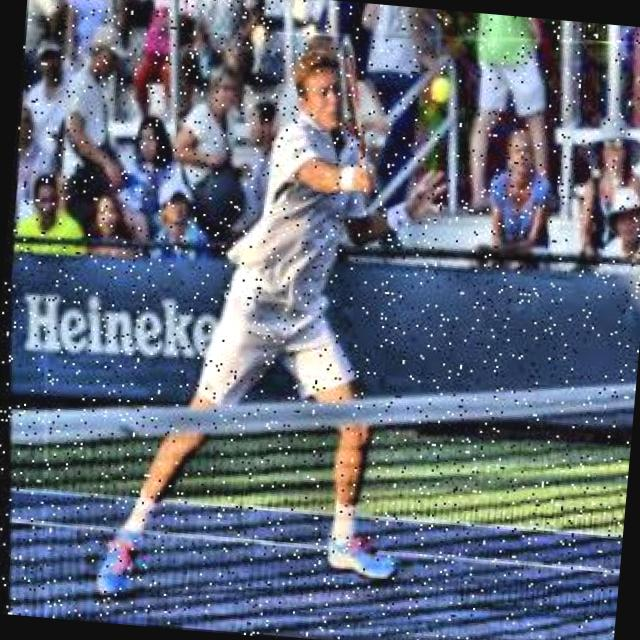Tennis Ball: (427, 78, 450, 103)
